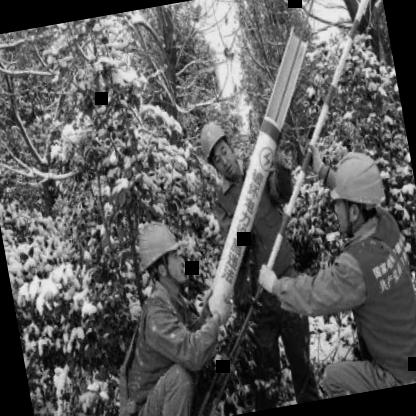helmet: (322, 142, 390, 242), (126, 210, 194, 303), (192, 113, 241, 187)
